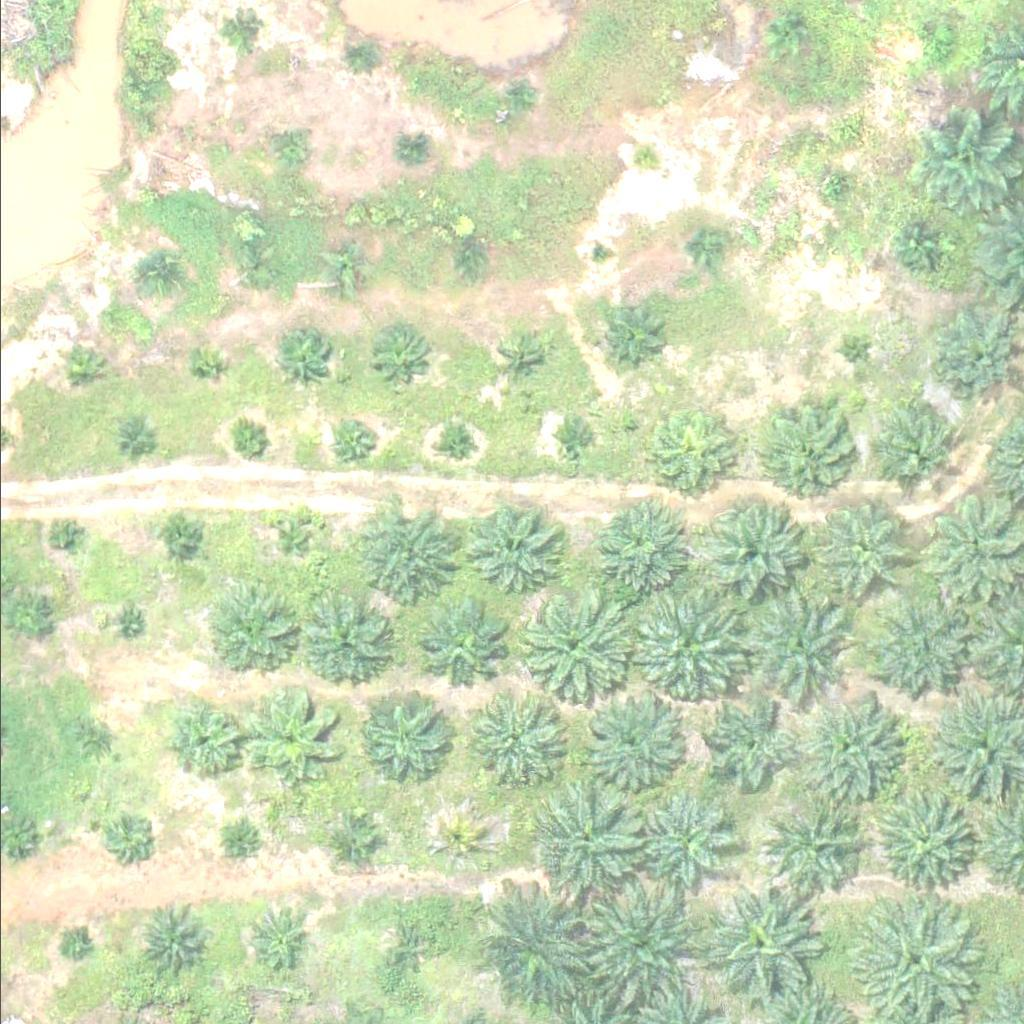Kelapa_Sawit: (851, 895, 977, 1020), (581, 880, 707, 1005), (470, 888, 596, 1013), (624, 581, 749, 706), (505, 581, 630, 706), (525, 788, 638, 901), (790, 693, 903, 806), (859, 590, 972, 703), (741, 587, 854, 700), (712, 890, 826, 1002), (636, 792, 737, 892), (690, 696, 791, 796), (581, 691, 682, 791), (820, 494, 921, 594), (703, 505, 804, 605), (584, 502, 685, 602), (456, 499, 557, 599), (865, 397, 966, 497), (759, 399, 860, 499), (638, 404, 739, 504), (911, 110, 1012, 210), (246, 689, 347, 789), (354, 507, 455, 607), (875, 789, 975, 889), (767, 798, 867, 898), (464, 702, 553, 790), (158, 696, 246, 784), (209, 587, 297, 675), (301, 599, 389, 687), (414, 606, 502, 694), (932, 312, 1021, 399), (369, 696, 457, 783), (134, 902, 210, 977), (595, 299, 658, 362), (245, 910, 308, 972), (268, 326, 331, 388), (375, 914, 438, 976), (893, 218, 944, 268), (377, 329, 428, 379), (53, 342, 104, 392), (320, 245, 371, 295), (329, 817, 379, 867), (100, 811, 150, 861), (68, 718, 118, 768), (158, 510, 208, 560), (429, 818, 479, 868), (267, 513, 317, 563), (331, 418, 381, 468), (448, 235, 486, 273), (920, 27, 958, 65), (769, 18, 807, 56), (813, 170, 851, 208), (832, 332, 870, 370), (623, 138, 661, 176), (554, 429, 592, 467), (182, 345, 219, 383), (437, 423, 475, 460), (504, 341, 542, 378), (394, 135, 431, 173), (218, 11, 256, 48), (236, 252, 273, 290), (233, 425, 271, 462), (684, 222, 722, 259), (110, 421, 147, 458), (138, 253, 175, 290), (346, 33, 383, 70), (268, 130, 305, 167), (503, 81, 540, 118), (61, 931, 87, 956), (52, 522, 77, 547), (226, 832, 251, 857), (587, 241, 612, 266), (116, 610, 141, 634)
